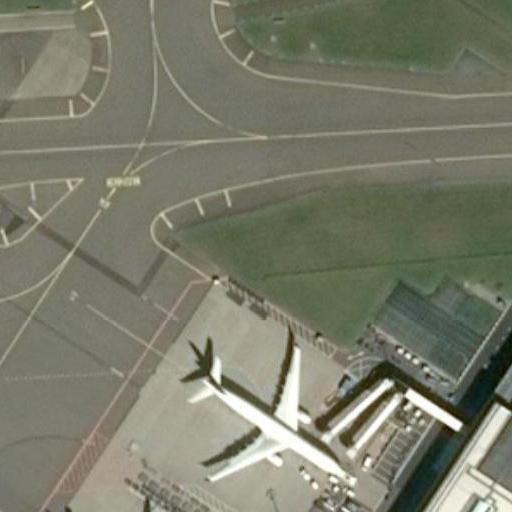Aircraft: (170, 325, 360, 484), (28, 493, 213, 512), (0, 392, 3, 512)
